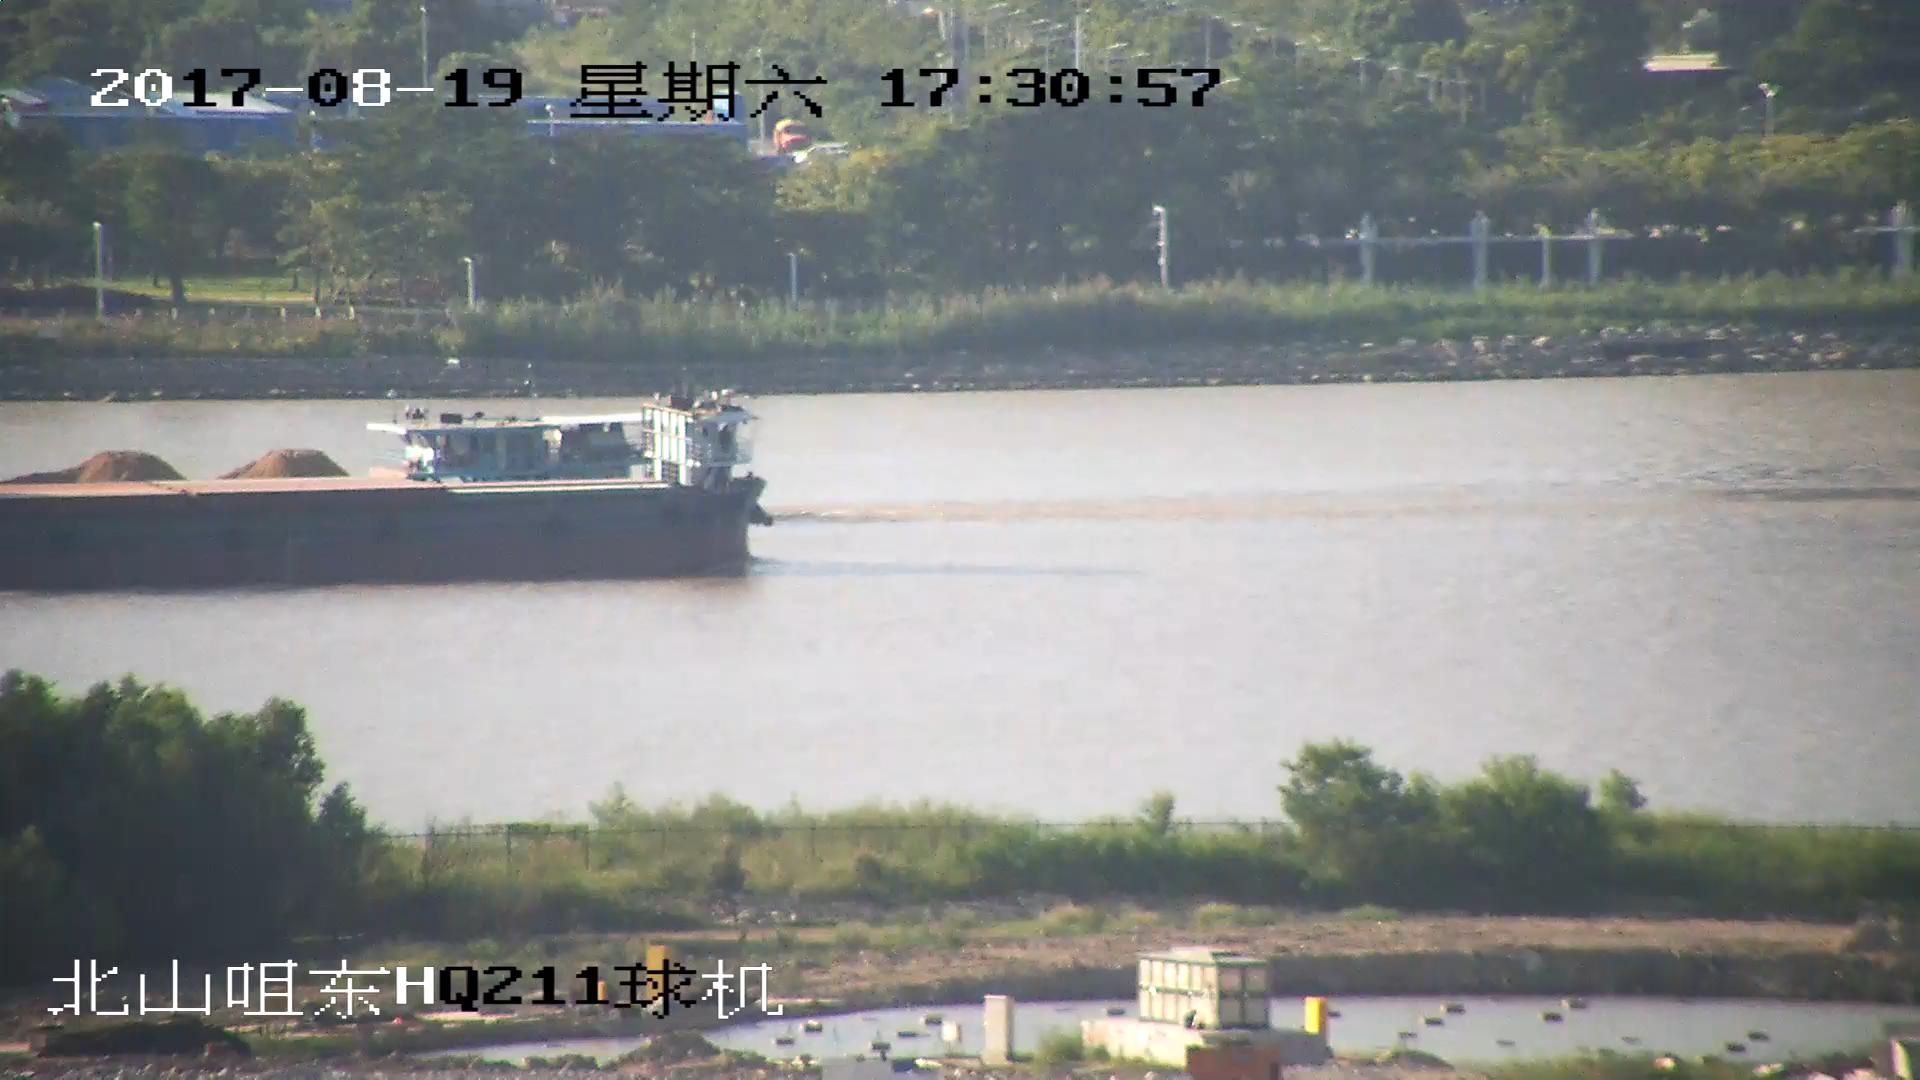general cargo ship: (1, 408, 764, 589)
ore carrier: (1, 414, 630, 476)
